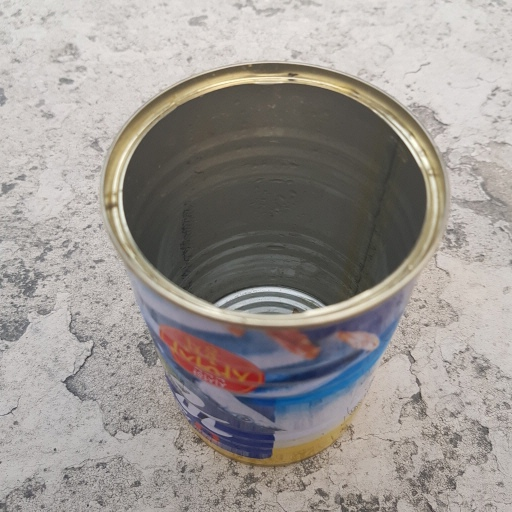Metal_1: (99, 61, 448, 476)
